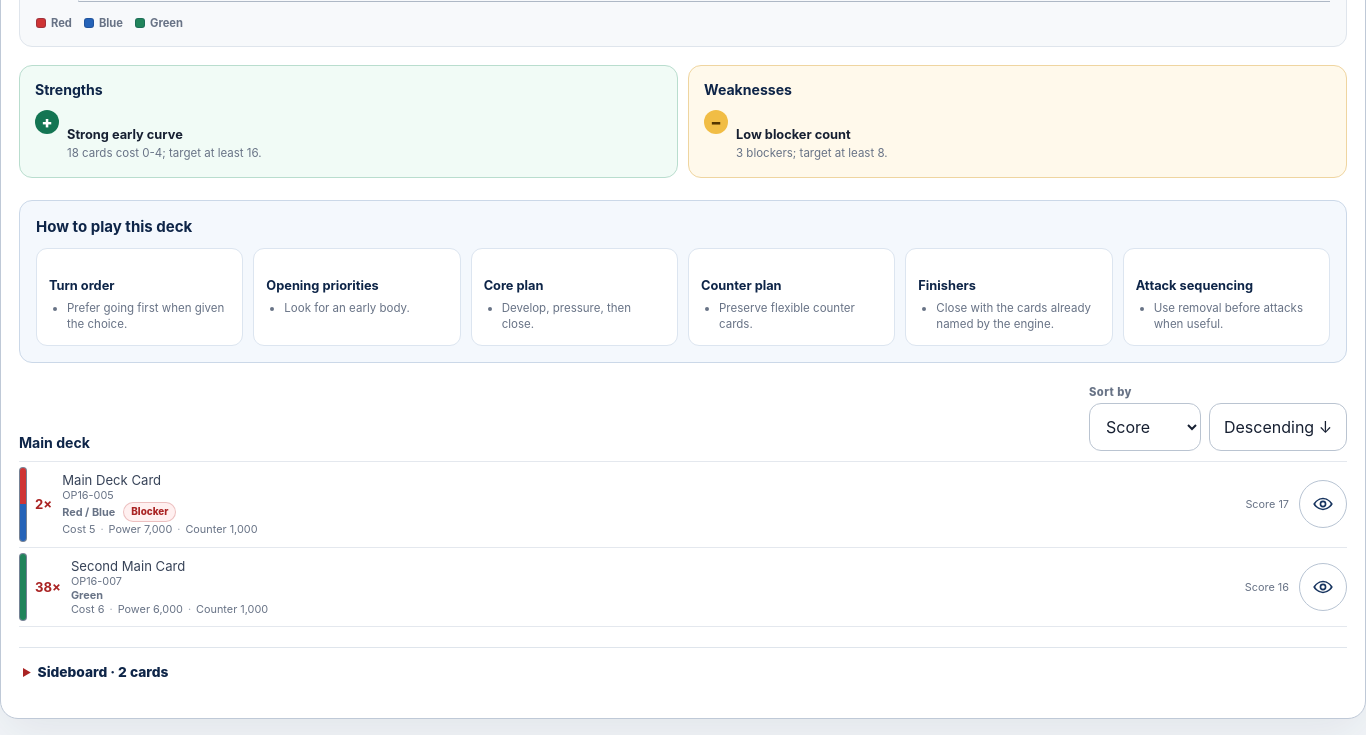
Test: DeckResult › shows a neutral Sideboard suggestion state only inside the disclosure
(page scrolled)
Check: the text "No Sideboard swaps are suggested." is not shown
Step 1. Click the heading "Sideboard · 2 cards" → (103, 672), box [38, 664, 168, 680]
(page scrolled)
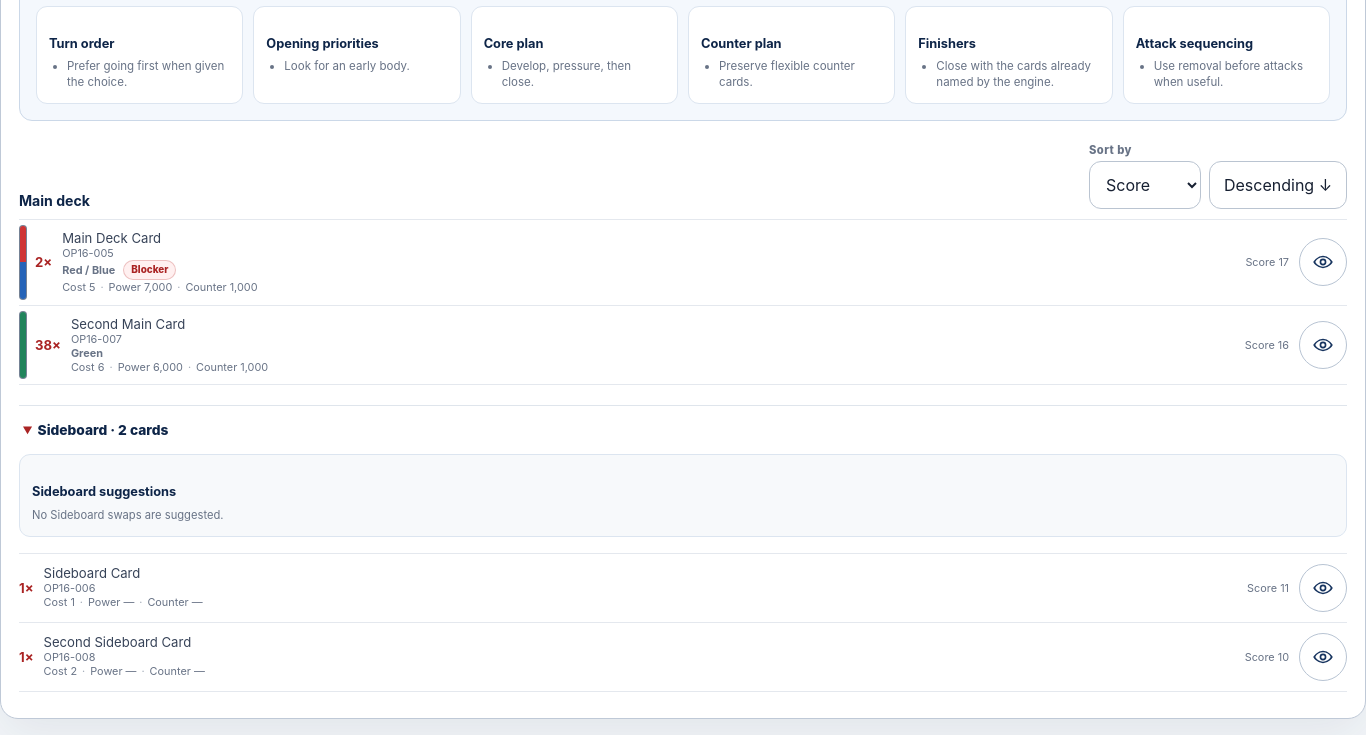
Check: the text "No Sideboard swaps are suggested." is shown, box [32, 508, 224, 522]
